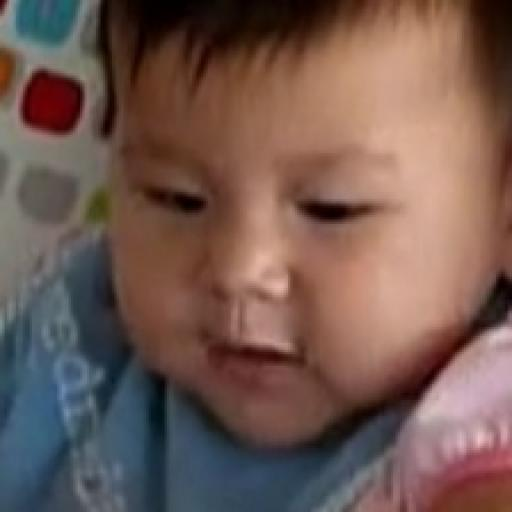Autism: (18, 0, 511, 434)
